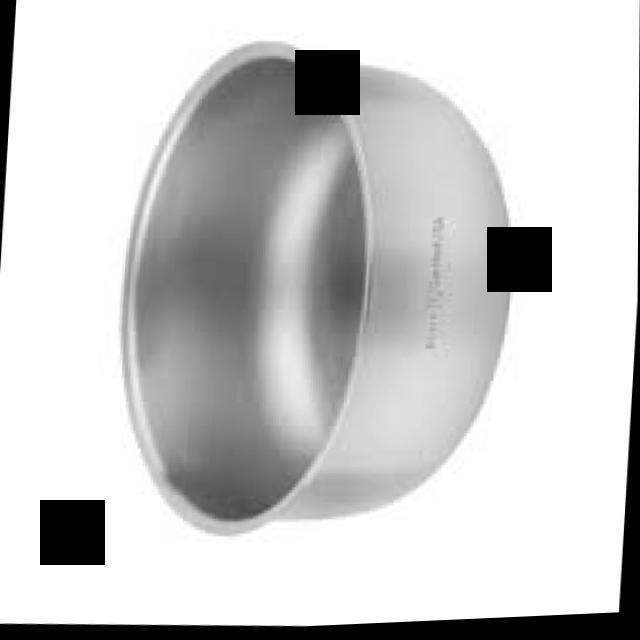Sponge Bowl: (91, 25, 528, 563)
